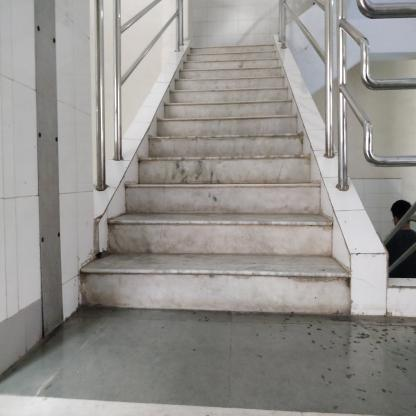stairs: (159, 126, 312, 323)
